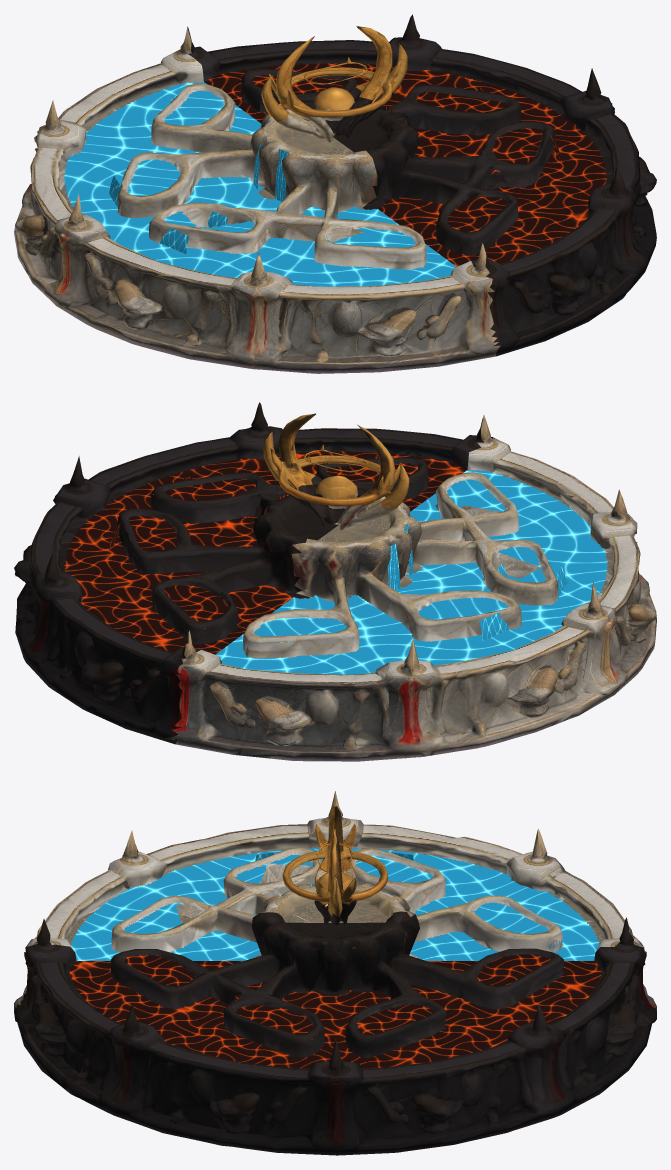
The model's file is Confluence.glb.
3 renders of one model, top to bottom at view 1: azimuth 30°, elevation 25°; view 2: azimuth 150°, elevation 25°; view 3: azimuth 270°, elevation 25°, orthographic.
Parts seen in each view (by area): view 1: Confluence_Heaven_Basin, Confluence_Heaven_Spillways, Confluence_Water_Pool_2.31, Confluence_Heaven_Foundation, Confluence_Hell_Spillways, Confluence_Lava_Pool_2.31, Confluence_Hell_Basin, Confluence_Heaven_RimOrnaments, Confluence_Hell_RimOrnaments, Confluence_Hell_Foundation, Confluence_Crown, Confluence_Lava_Pool_2.88 (+1 smaller); view 2: Confluence_Heaven_Basin, Confluence_Heaven_Spillways, Confluence_Water_Pool_2.31, Confluence_Heaven_Foundation, Confluence_Hell_Spillways, Confluence_Lava_Pool_2.31, Confluence_Hell_Basin, Confluence_Heaven_RimOrnaments, Confluence_Hell_RimOrnaments, Confluence_Hell_Foundation, Confluence_Crown, Confluence_Lava_Pool_2.88 (+1 smaller); view 3: Confluence_Hell_Basin, Confluence_Hell_Spillways, Confluence_Hell_Foundation, Confluence_Lava_Pool_2.31, Confluence_Water_Pool_2.31, Confluence_Hell_RimOrnaments, Confluence_Heaven_Spillways, Confluence_Heaven_Basin, Confluence_Heaven_RimOrnaments, Confluence_Lava_Pool_2.88, Confluence_Crown, Confluence_Water_Pool_2.88.
Part boxes in pixels (x1,y1,x2,y2): Confluence_Heaven_Basin: (15,60,494,353); Confluence_Heaven_Spillways: (117,83,426,269); Confluence_Water_Pool_2.31: (63,82,456,286); Confluence_Heaven_Foundation: (14,184,500,373); Confluence_Hell_Spillways: (241,68,555,254); Confluence_Lava_Pool_2.31: (204,63,606,266); Confluence_Hell_Basin: (196,43,656,328); Confluence_Heaven_RimOrnaments: (30,27,492,299); Confluence_Hell_RimOrnaments: (180,14,640,286); Confluence_Hell_Foundation: (490,193,656,356); Confluence_Crown: (261,26,407,122); Confluence_Lava_Pool_2.88: (241,75,543,232); Confluence_Heaven_Basin: (175,448,656,734); Confluence_Heaven_Spillways: (243,472,558,658); Confluence_Water_Pool_2.31: (215,470,608,674); Confluence_Heaven_Foundation: (165,573,656,761); Confluence_Hell_Spillways: (118,457,428,644); Confluence_Lava_Pool_2.31: (64,451,466,654); Confluence_Hell_Basin: (14,433,468,718); Confluence_Heaven_RimOrnaments: (177,415,640,690); Confluence_Hell_RimOrnaments: (30,402,492,676); Confluence_Hell_Foundation: (15,582,181,744); Confluence_Crown: (263,413,409,508); Confluence_Lava_Pool_2.88: (128,463,417,628); Confluence_Hell_Basin: (24,947,646,1136); Confluence_Hell_Spillways: (111,890,563,1057); Confluence_Hell_Foundation: (14,993,656,1155); Confluence_Lava_Pool_2.31: (69,961,601,1068); Confluence_Water_Pool_2.31: (71,848,599,960); Confluence_Hell_RimOrnaments: (24,917,646,1090); Confluence_Heaven_Spillways: (111,847,562,951); Confluence_Heaven_Basin: (24,830,644,993); Confluence_Heaven_RimOrnaments: (24,791,646,953); Confluence_Lava_Pool_2.88: (124,954,558,1039); Confluence_Crown: (282,805,388,917); Confluence_Water_Pool_2.88: (124,855,548,933).
Size of the model in its own units: 22 by 7.8 by 22.
5 materials, 5 textured.
